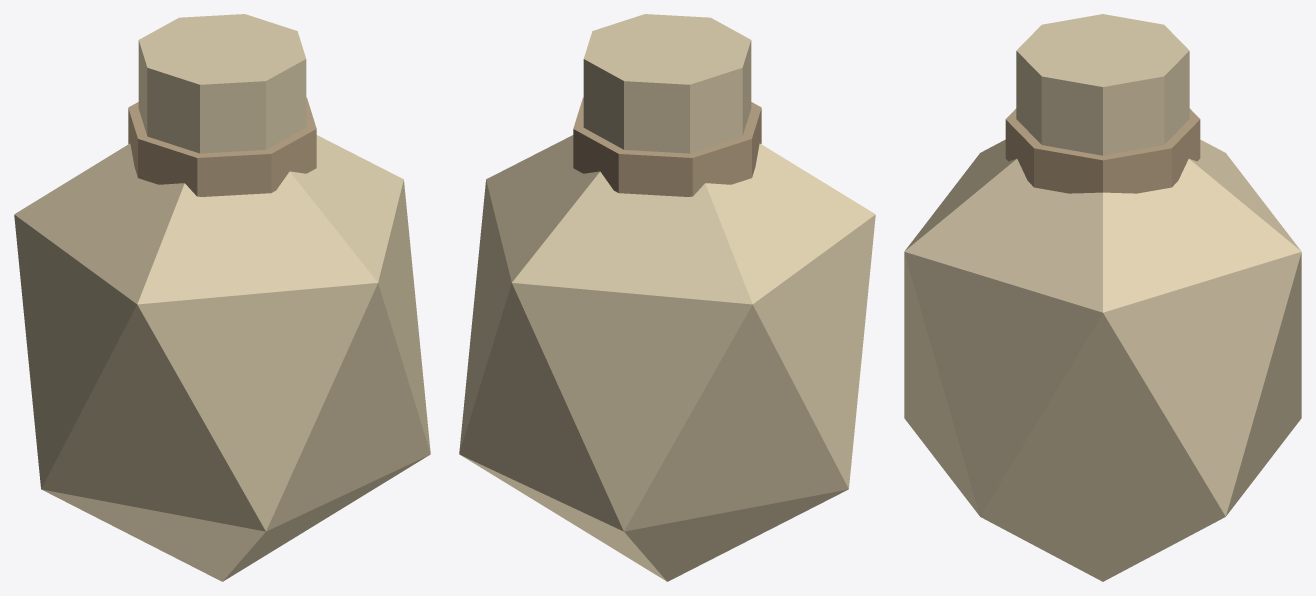
The model's file is sack.glb.
The picture shows the model from 3 angles, left to right: view 1: azimuth 30°, elevation 25°; view 2: azimuth 150°, elevation 25°; view 3: azimuth 270°, elevation 25°; orthographic projection.
Visible parts, largest first — view 1: sack; view 2: sack; view 3: sack.
Boxes of the visible parts, x1,y1,x2,y2 form: sack: (14,14,430,581); sack: (459,14,875,581); sack: (904,14,1301,581).
Size of the model in its own units: 0.3864 by 0.542 by 0.3675.
